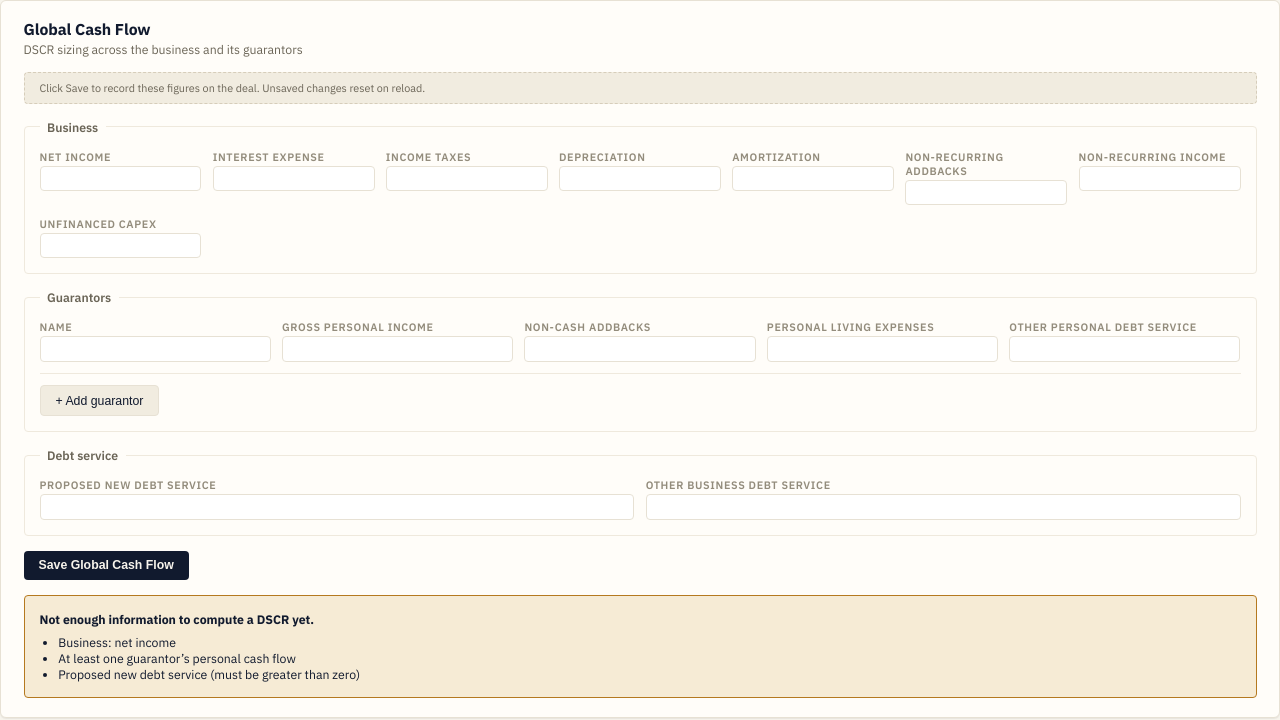
Scenario: GlobalCashFlowPanel › persistence (Factory Arc Phase 4) › saves entered figures via the governed write path and shows a confirmed outcome
Type "200000" into the field labelled "Net income" at [120, 179], box [40,166,201,191]
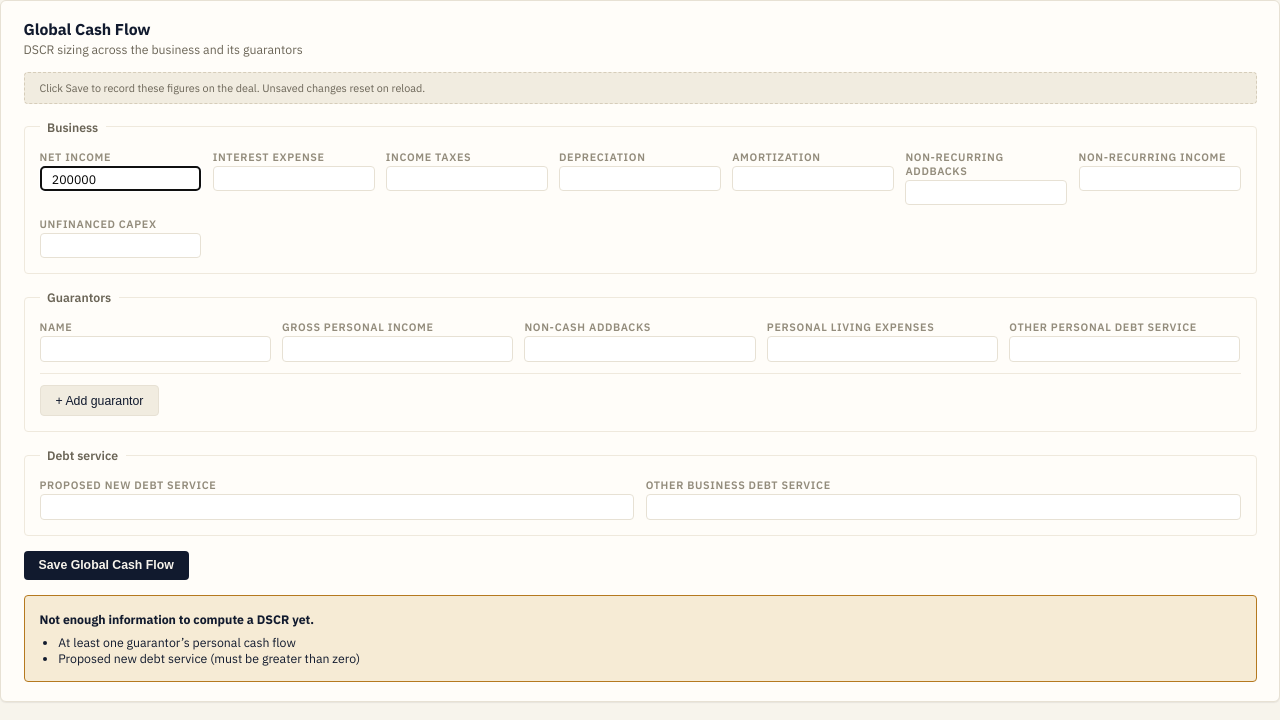
Click the button "Save Global Cash Flow" at [106, 565], box [24,550,189,580]
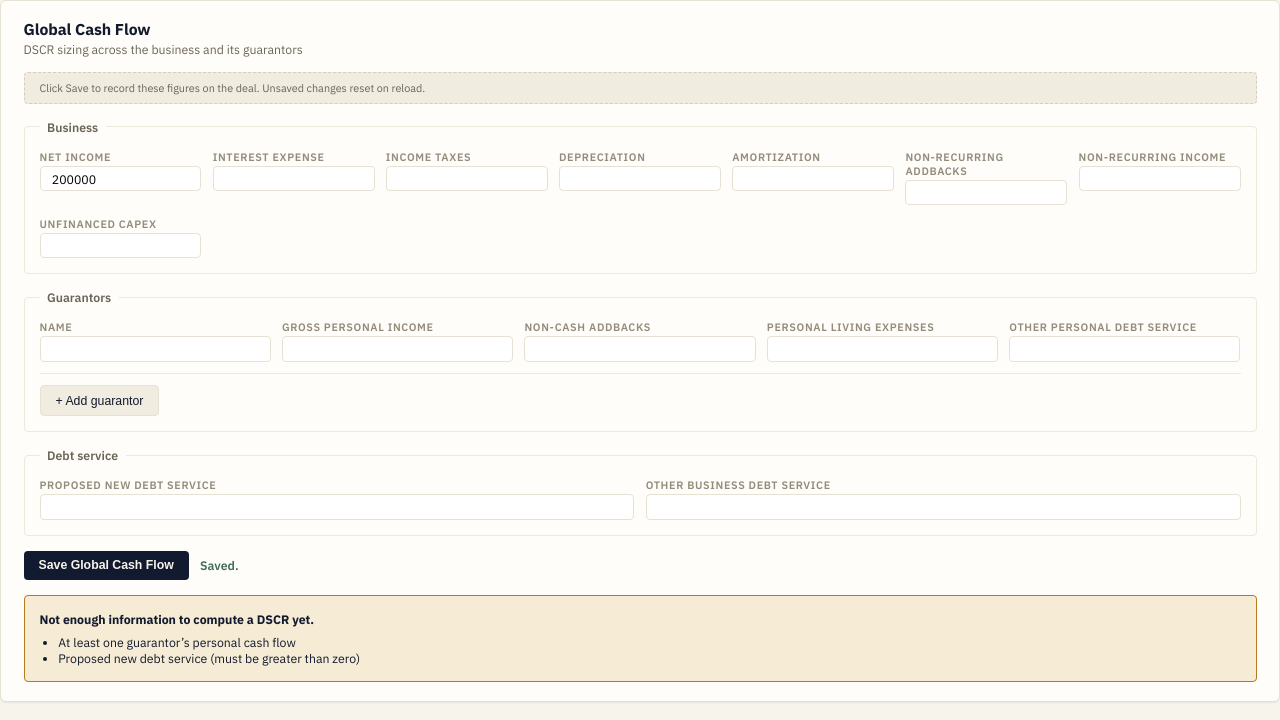
Now the message "Saved." is shown, box [200,557,239,573]
